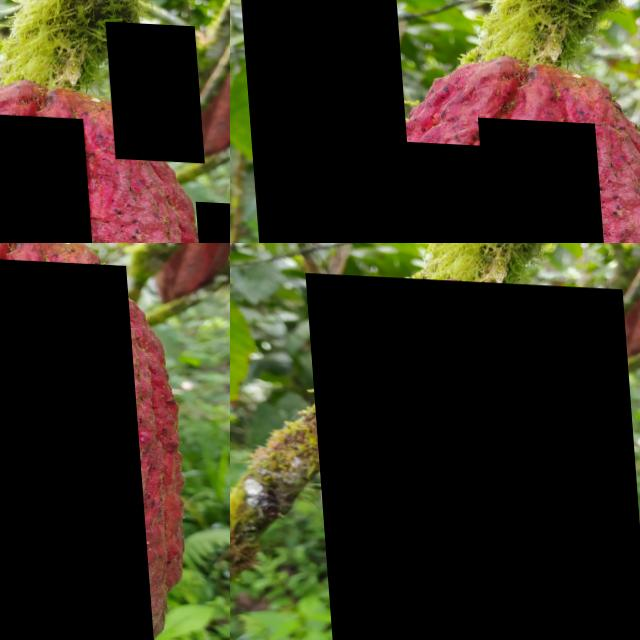Fitoftora: (388, 138, 489, 243)
Sana: (303, 271, 640, 640), (0, 250, 147, 640), (238, 0, 414, 243), (474, 114, 608, 243), (104, 17, 201, 158), (0, 108, 96, 243), (191, 196, 230, 243)
